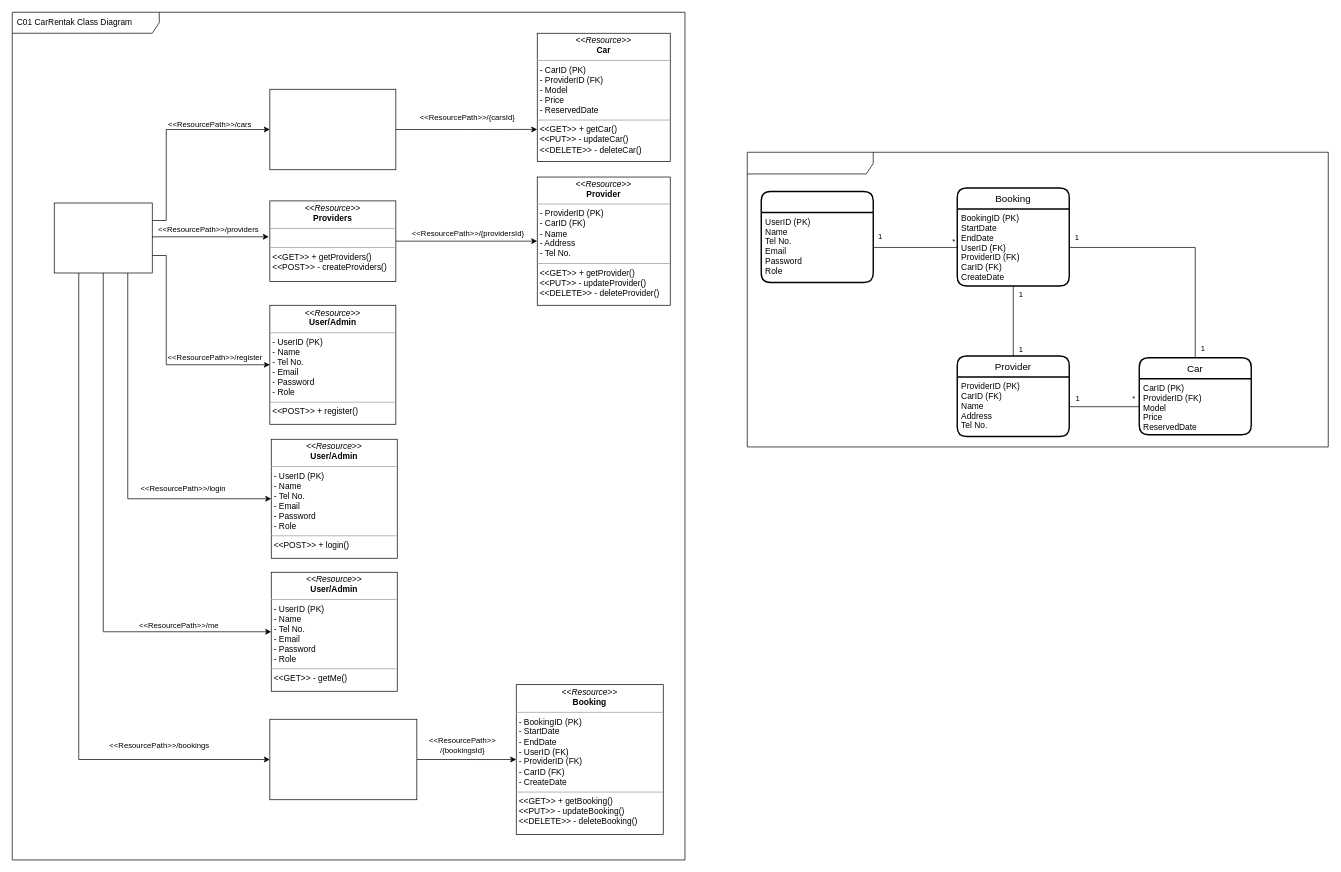
This 1341x872 diagram has some shape labels left out. Here are the shapes that lost their labels. From the top down, the box of each, then its label:
(269, 89, 396, 170): <<Resource>> Cars <<GET>> + getCars() <<POST>> - createCars()
(54, 202, 152, 273): <<www.carrental.org>> CarRentalService
(760, 190, 874, 283): User/Admin
(747, 152, 1328, 447): ER01 CarRent ER Diagram
(269, 719, 417, 800): <<Resource>> Bookings <<GET>> + getBookings() <<POST>> - createBookings()
